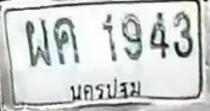1: (102, 13, 116, 62)
3: (172, 10, 194, 58)
4: (148, 11, 168, 59)
9: (120, 13, 142, 60)
A04: (53, 16, 81, 64)
A28: (24, 18, 52, 67)
NPT: (68, 74, 145, 101)
